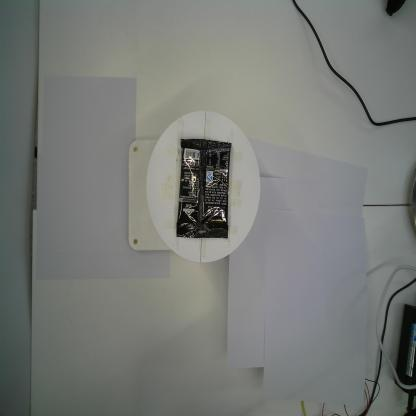Instant Drink: (176, 138, 232, 239)
